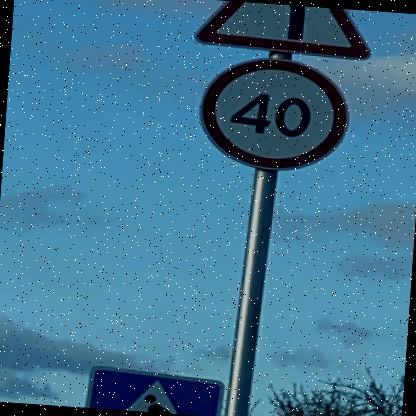crosswalk: (80, 363, 228, 415)
speedlimit: (192, 51, 350, 174)
